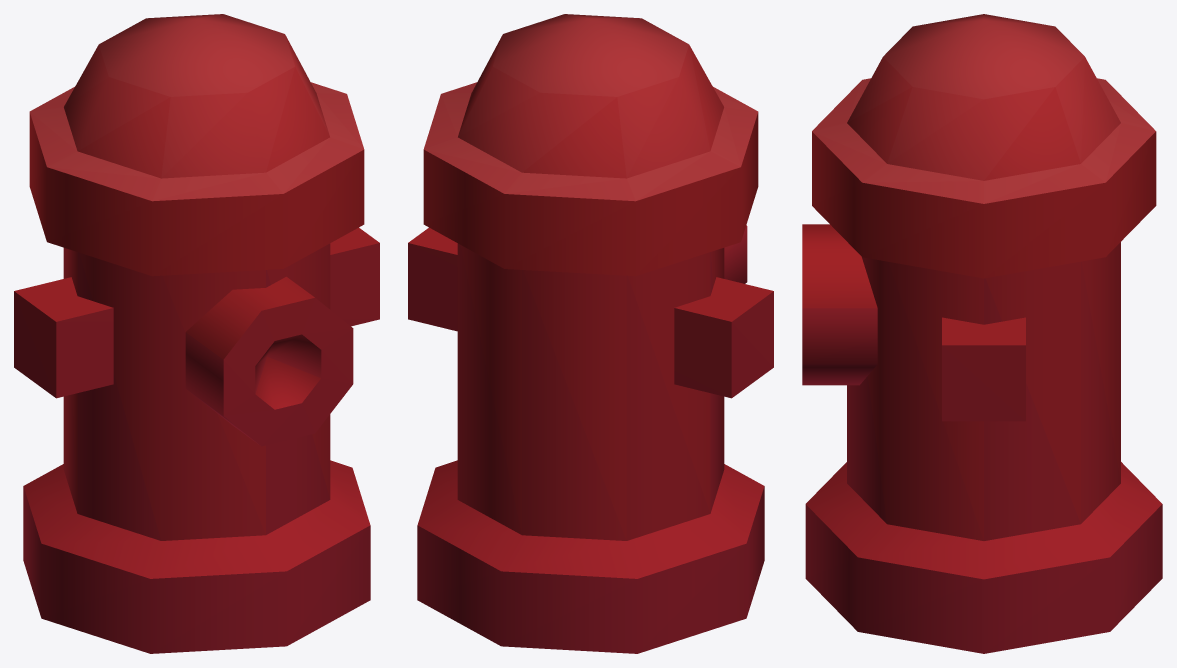
Rendered from kk_city_firehydrant.glb.
3 renders of one model, left to right at view 1: azimuth 30°, elevation 25°; view 2: azimuth 150°, elevation 25°; view 3: azimuth 270°, elevation 25°, orthographic.
Parts seen in each view (by area): view 1: kk_city_firehydrant; view 2: kk_city_firehydrant; view 3: kk_city_firehydrant.
Part boxes in pixels (x1=…): kk_city_firehydrant: x1=14, y1=14, x2=379, y2=653; kk_city_firehydrant: x1=408, y1=14, x2=773, y2=653; kk_city_firehydrant: x1=802, y1=14, x2=1162, y2=653.
Bounding box in the file's own units: 0.1355 × 0.2246 × 0.1313.
